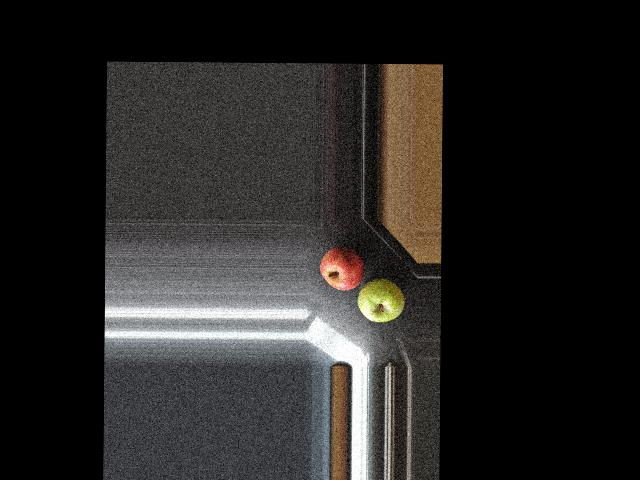apple: (318, 244, 362, 292)
